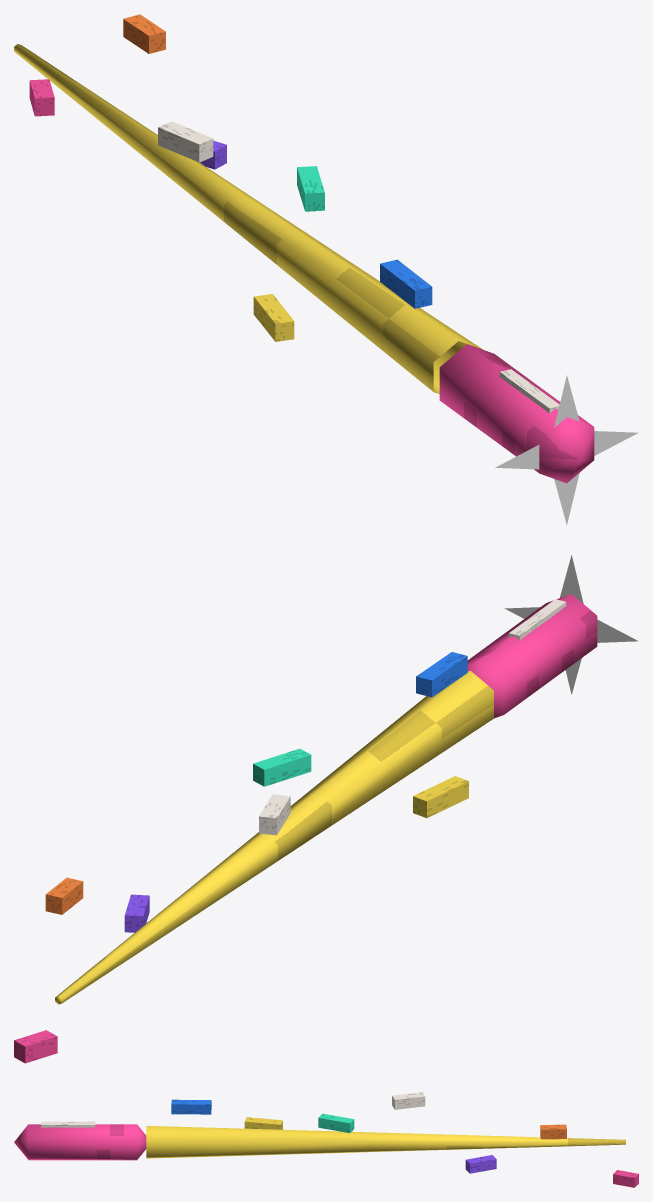
Rendered from Sprinkle Pellet.fbx.
3 renders of one model, top to bottom at view 1: azimuth 30°, elevation 25°; view 2: azimuth 150°, elevation 25°; view 3: azimuth 270°, elevation 25°, orthographic. The views are drawn at different scales.
Parts seen in each view (by area): view 1: Sprinkle Pellet streak, Sprinkle Pellet pellet, Sprinkle Pellet spark, Sprinkle Pellet trail sprinkle 0, Sprinkle Pellet trail sprinkle 3, Sprinkle Pellet trail sprinkle 1, Sprinkle Pellet trail sprinkle 5, Sprinkle Pellet trail sprinkle 2, Sprinkle Pellet glint, Sprinkle Pellet trail sprinkle 6; view 2: Sprinkle Pellet streak, Sprinkle Pellet pellet, Sprinkle Pellet spark, Sprinkle Pellet trail sprinkle 2, Sprinkle Pellet trail sprinkle 1, Sprinkle Pellet trail sprinkle 0, Sprinkle Pellet trail sprinkle 6, Sprinkle Pellet trail sprinkle 5, Sprinkle Pellet trail sprinkle 3, Sprinkle Pellet trail sprinkle 4, Sprinkle Pellet glint; view 3: Sprinkle Pellet streak, Sprinkle Pellet pellet, Sprinkle Pellet trail sprinkle 0, Sprinkle Pellet trail sprinkle 2, Sprinkle Pellet trail sprinkle 3, Sprinkle Pellet trail sprinkle 4, Sprinkle Pellet trail sprinkle 1, Sprinkle Pellet trail sprinkle 5, Sprinkle Pellet glint, Sprinkle Pellet trail sprinkle 6.
Boxes of the visible parts, x1,y1,x2,y2 form: Sprinkle Pellet streak: [14, 44, 482, 394]; Sprinkle Pellet pellet: [439, 344, 594, 483]; Sprinkle Pellet spark: [495, 375, 638, 524]; Sprinkle Pellet trail sprinkle 0: [380, 259, 432, 308]; Sprinkle Pellet trail sprinkle 3: [158, 121, 213, 162]; Sprinkle Pellet trail sprinkle 1: [253, 294, 294, 341]; Sprinkle Pellet trail sprinkle 5: [123, 14, 165, 53]; Sprinkle Pellet trail sprinkle 2: [297, 166, 324, 211]; Sprinkle Pellet glint: [499, 369, 559, 413]; Sprinkle Pellet trail sprinkle 6: [29, 79, 54, 116]; Sprinkle Pellet streak: [55, 671, 493, 1004]; Sprinkle Pellet pellet: [467, 594, 597, 718]; Sprinkle Pellet spark: [504, 555, 638, 694]; Sprinkle Pellet trail sprinkle 2: [253, 748, 311, 786]; Sprinkle Pellet trail sprinkle 1: [413, 776, 468, 818]; Sprinkle Pellet trail sprinkle 0: [416, 652, 467, 697]; Sprinkle Pellet trail sprinkle 6: [14, 1030, 57, 1063]; Sprinkle Pellet trail sprinkle 5: [45, 877, 83, 914]; Sprinkle Pellet trail sprinkle 3: [259, 794, 290, 835]; Sprinkle Pellet trail sprinkle 4: [124, 894, 149, 932]; Sprinkle Pellet glint: [508, 599, 566, 640]; Sprinkle Pellet streak: [146, 1126, 625, 1158]; Sprinkle Pellet pellet: [14, 1124, 146, 1160]; Sprinkle Pellet trail sprinkle 0: [171, 1099, 211, 1114]; Sprinkle Pellet trail sprinkle 2: [318, 1113, 354, 1132]; Sprinkle Pellet trail sprinkle 3: [392, 1092, 425, 1109]; Sprinkle Pellet trail sprinkle 4: [465, 1155, 496, 1173]; Sprinkle Pellet trail sprinkle 1: [244, 1117, 282, 1129]; Sprinkle Pellet trail sprinkle 5: [540, 1124, 566, 1139]; Sprinkle Pellet glint: [41, 1121, 95, 1127]; Sprinkle Pellet trail sprinkle 6: [613, 1170, 638, 1187].
Bounding box in the file's own units: 0.0565 × 0.05 × 0.3452.
9 materials, 8 textured.
